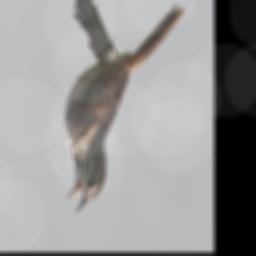Sparrow: (65, 1, 186, 216)
